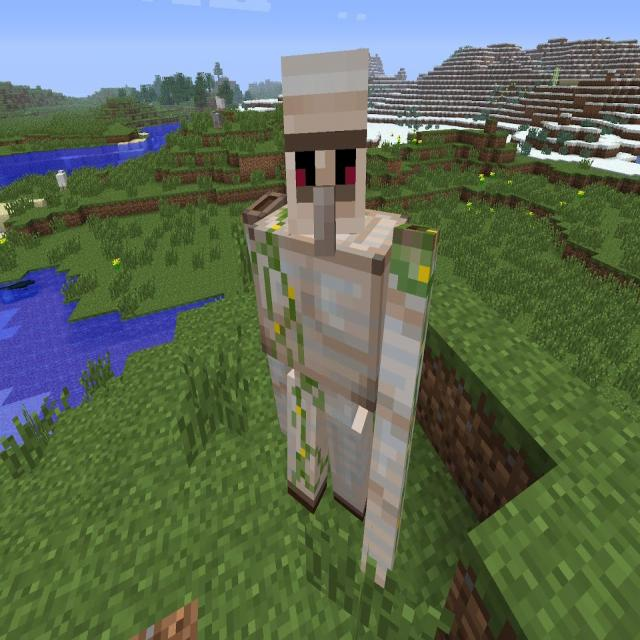Iron Golem: (234, 39, 440, 593)
